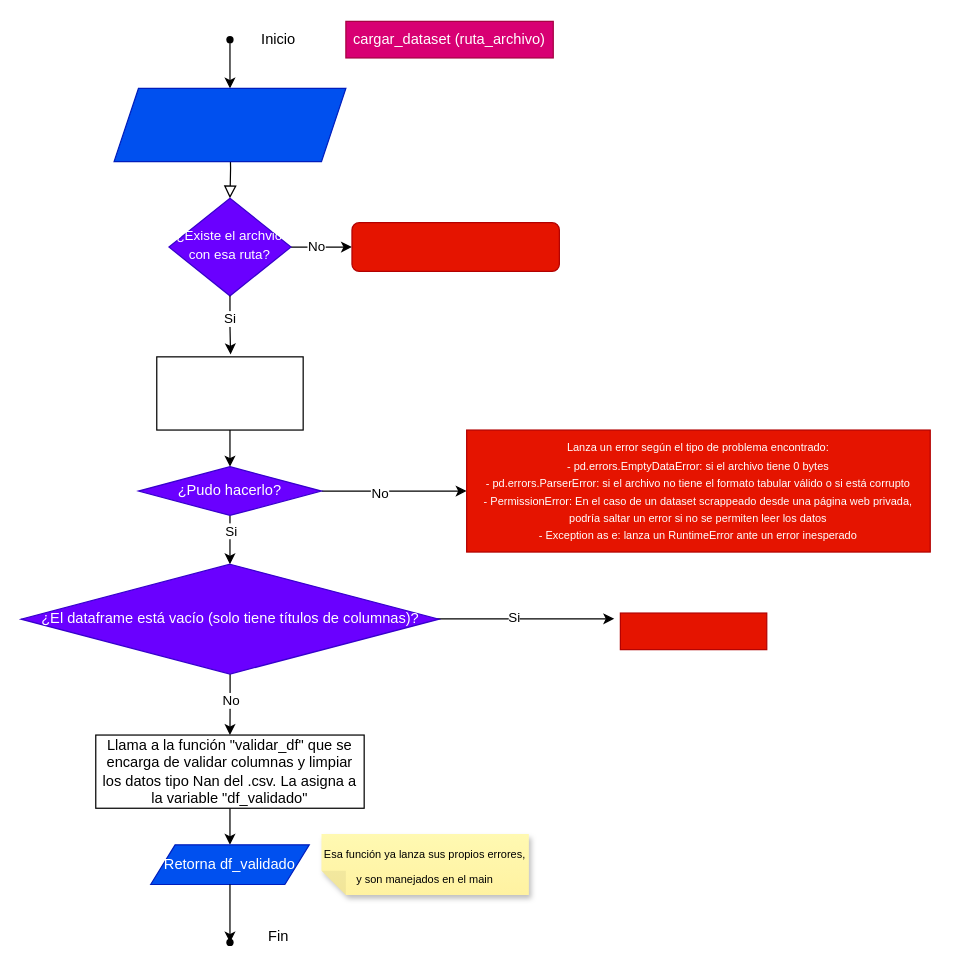
The diagram is 953 pixels wide and 976 high, and some of its shapes have lost their labels. The centre of each missing label's shape, as x and y in pixels:
Ingresa ruta_archivo por parámetro: (229,124)
Intenta convertir a DataFrame con las ruta de archivo indicada: (229,393)
Lanza error de ValueError: (693,631)
Lanza FileNotFoundError: El archivo no se existe con la ruta especificada: (455,246)
